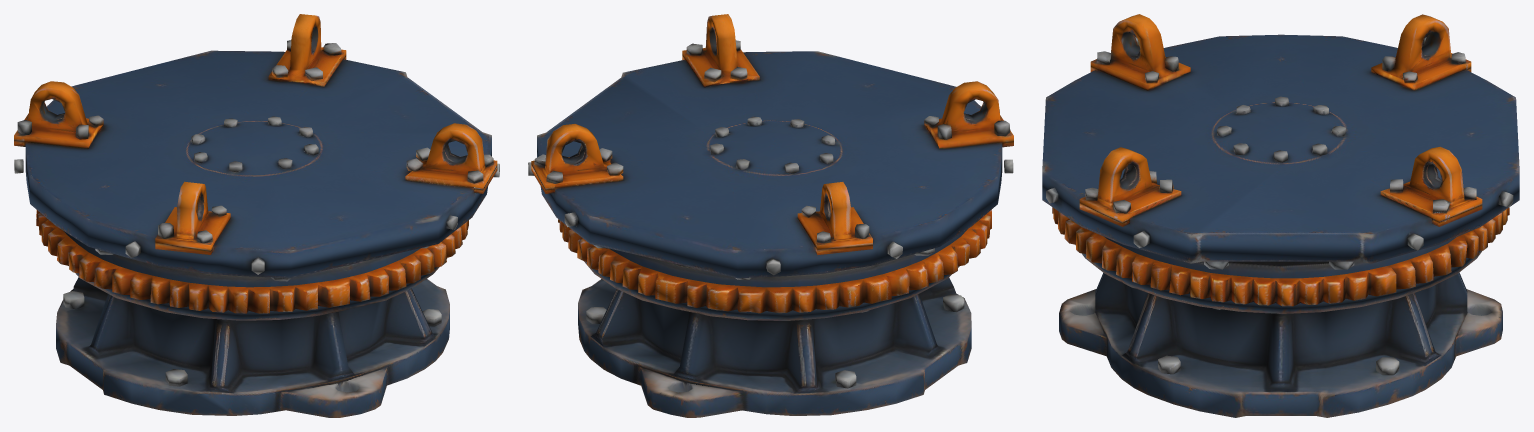
The picture shows the model from 3 angles, left to right: view 1: azimuth 30°, elevation 25°; view 2: azimuth 150°, elevation 25°; view 3: azimuth 270°, elevation 25°; orthographic projection. The views are drawn at different scales.
Visible parts, largest first — view 1: tripo_node_93d64f02-df1e-4d82-940d-cae88f4648b4; view 2: tripo_node_93d64f02-df1e-4d82-940d-cae88f4648b4; view 3: tripo_node_93d64f02-df1e-4d82-940d-cae88f4648b4.
Part boxes in pixels (x1=…): tripo_node_93d64f02-df1e-4d82-940d-cae88f4648b4: x1=14, y1=14, x2=499, y2=417; tripo_node_93d64f02-df1e-4d82-940d-cae88f4648b4: x1=528, y1=14, x2=1013, y2=417; tripo_node_93d64f02-df1e-4d82-940d-cae88f4648b4: x1=1042, y1=14, x2=1519, y2=417.
Size of the model in its own units: 0.8806 by 0.5 by 0.8841.
Materials: 1 (1 with a texture image).
